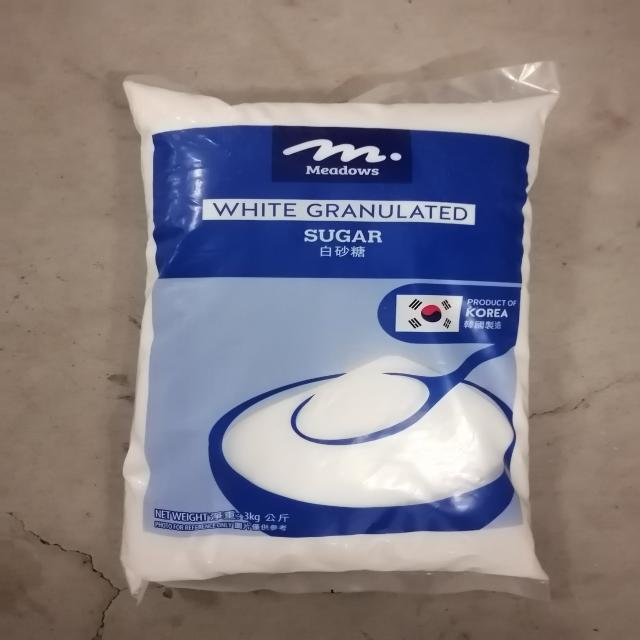object_name: (130, 82, 538, 583)
